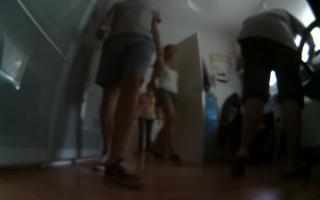person: (229, 8, 312, 182), (90, 1, 165, 190), (150, 39, 189, 173), (132, 78, 160, 160)
